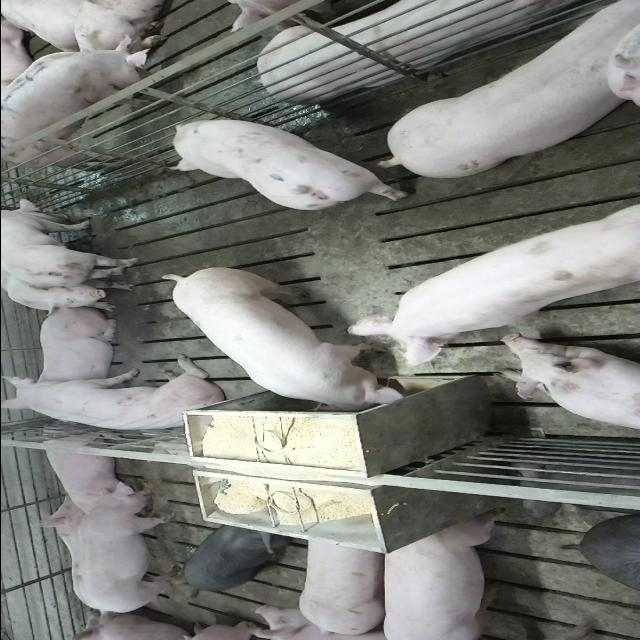Feeding: (339, 198, 634, 370), (162, 270, 410, 420)
Sitting: (3, 356, 226, 436), (2, 196, 142, 316)
Standing: (373, 5, 635, 184), (168, 120, 412, 213), (0, 36, 149, 174), (378, 510, 518, 638), (80, 480, 184, 617), (296, 526, 388, 634), (176, 523, 288, 595)
Sternal_lying: (248, 0, 599, 100), (497, 336, 640, 436), (36, 429, 132, 513), (32, 310, 122, 386)
